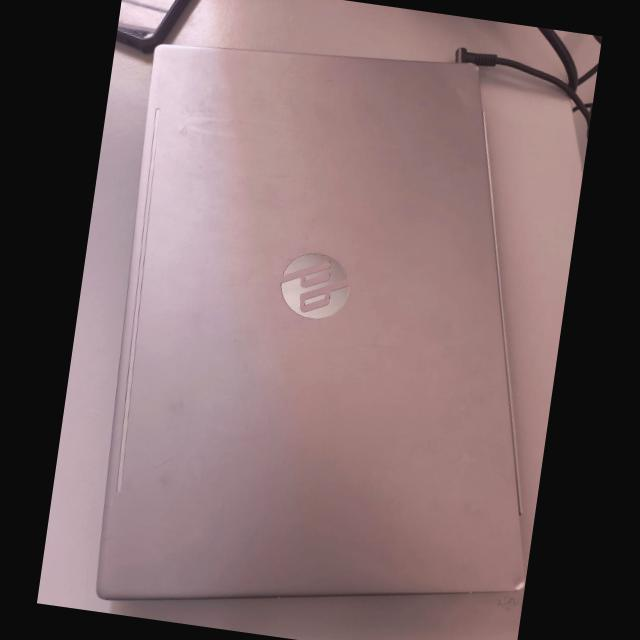laptop: (61, 0, 596, 635)
